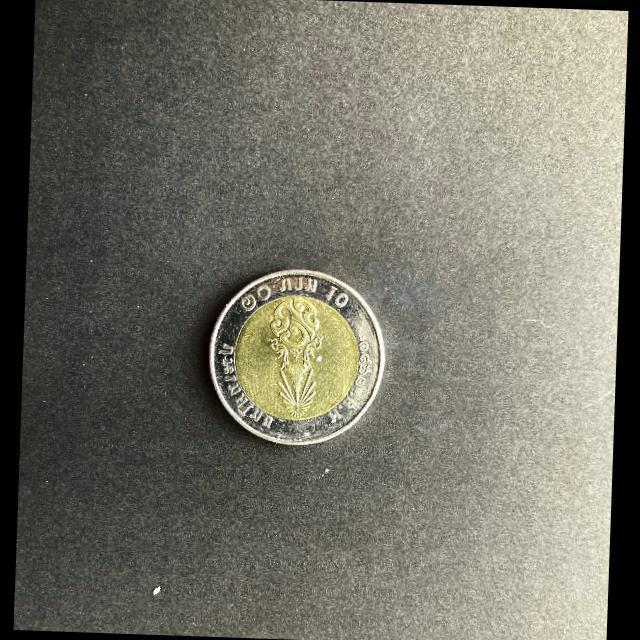10 Bath: (207, 267, 389, 451)
